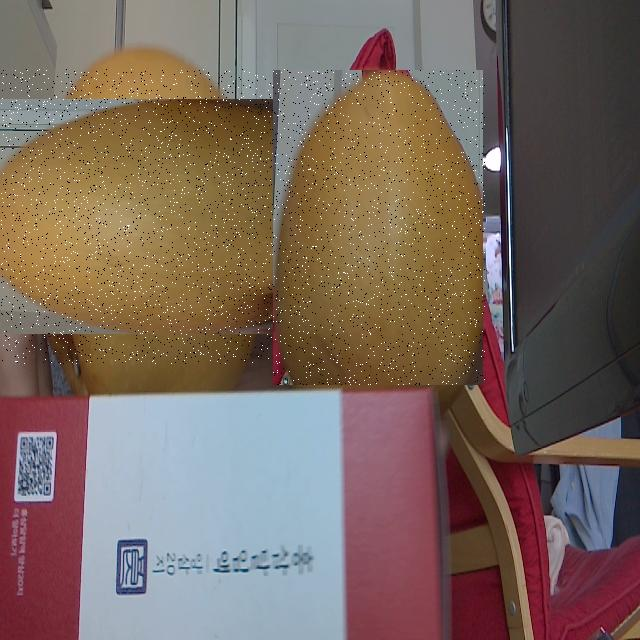pear: (1, 69, 297, 364), (274, 70, 486, 385)
